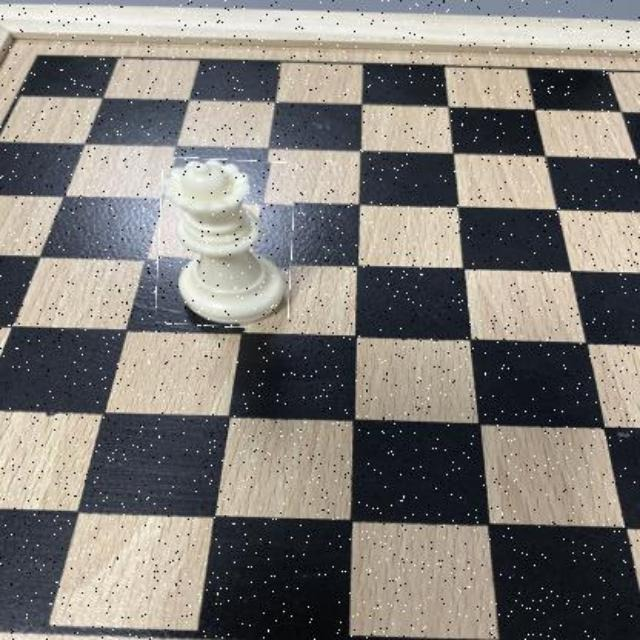white-queen: (159, 158, 293, 327)
